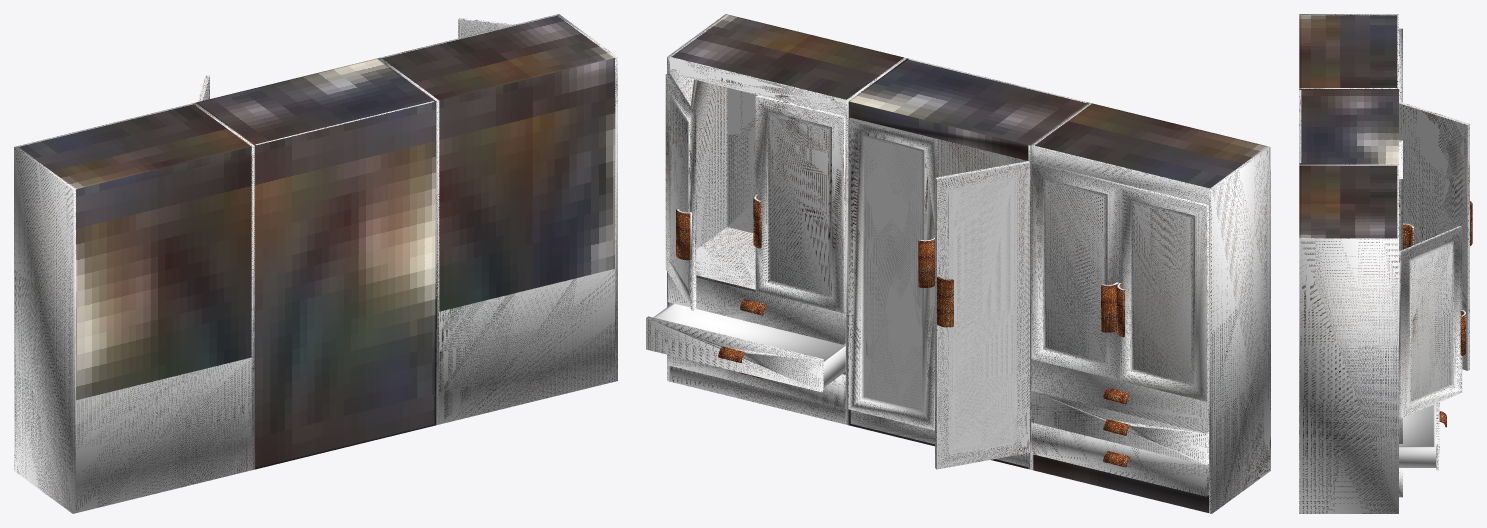
3 views of the same model, side by side, from view 1: azimuth 30°, elevation 25°; view 2: azimuth 150°, elevation 25°; view 3: azimuth 270°, elevation 25° (orthographic). The views are drawn at different scales.
Parts seen in each view (by area): view 1: mesh10_mesh10-geometry, mesh6_mesh6-geometry, mesh4_mesh4-geometry; view 2: mesh10_mesh10-geometry, mesh6_mesh6-geometry, mesh4_mesh4-geometry, mesh2_mesh2-geometry, mesh1_mesh1-geometry, mesh7_mesh7-geometry, mesh15_mesh15-geometry, mesh13_mesh13-geometry; view 3: mesh6_mesh6-geometry, mesh1_mesh1-geometry, mesh4_mesh4-geometry, mesh10_mesh10-geometry, mesh7_mesh7-geometry, mesh13_mesh13-geometry.
Boxes of the visible parts, bbox=[...] form: mesh10_mesh10-geometry: bbox=[14, 102, 254, 513]; mesh6_mesh6-geometry: bbox=[378, 14, 617, 425]; mesh4_mesh4-geometry: bbox=[196, 58, 436, 469]; mesh10_mesh10-geometry: bbox=[1030, 102, 1270, 513]; mesh6_mesh6-geometry: bbox=[665, 14, 906, 425]; mesh4_mesh4-geometry: bbox=[848, 58, 1088, 469]; mesh2_mesh2-geometry: bbox=[949, 177, 1017, 454]; mesh1_mesh1-geometry: bbox=[935, 161, 1029, 469]; mesh7_mesh7-geometry: bbox=[646, 303, 845, 392]; mesh15_mesh15-geometry: bbox=[1101, 282, 1118, 332]; mesh13_mesh13-geometry: bbox=[676, 209, 691, 260]; mesh6_mesh6-geometry: bbox=[1299, 164, 1462, 513]; mesh1_mesh1-geometry: bbox=[1399, 102, 1472, 370]; mesh4_mesh4-geometry: bbox=[1299, 89, 1413, 249]; mesh10_mesh10-geometry: bbox=[1299, 14, 1402, 102]; mesh7_mesh7-geometry: bbox=[1399, 402, 1446, 470]; mesh13_mesh13-geometry: bbox=[1460, 310, 1465, 355].
Bounding box in the file's own units: 0.8368 × 0.4752 × 0.2717.
